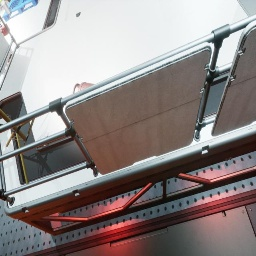0: (0, 0, 11, 15)
FireExtinguisher ]: (7, 0, 11, 2)
FirstAidBox ,: (0, 23, 10, 36)
NitrogenTank ,: (73, 82, 95, 94), (3, 62, 9, 73)
